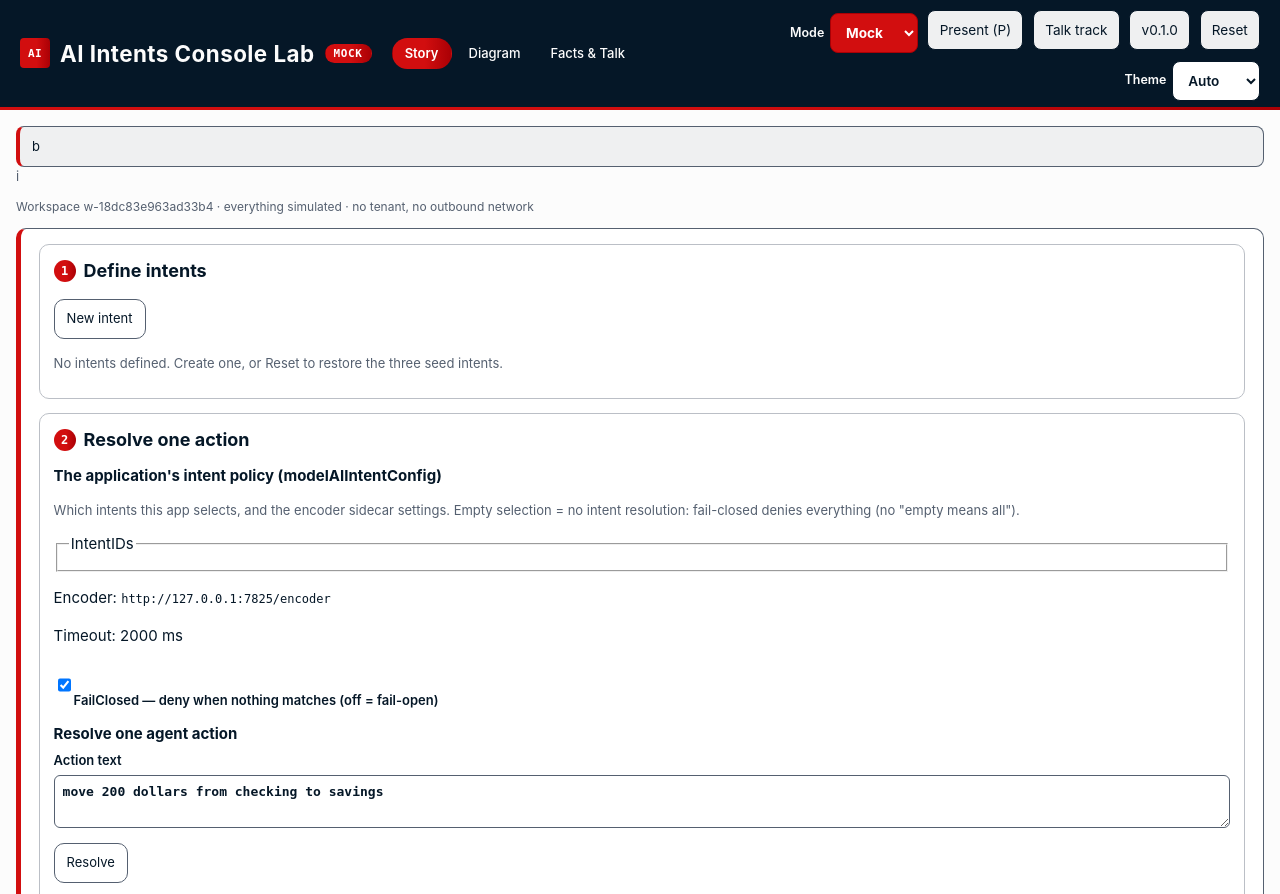
Scenario: real-mode resolve result › real hops render as observed and do not reuse the mock checked chip styling
Expected: the element with test id "banner" showing "b i" is shown, top-left (16, 126), bottom-right (1264, 186)
Click the button with test id "resolve-run": {"x": 91, "y": 863} top-left (54, 843), bottom-right (128, 883)
(page scrolled)
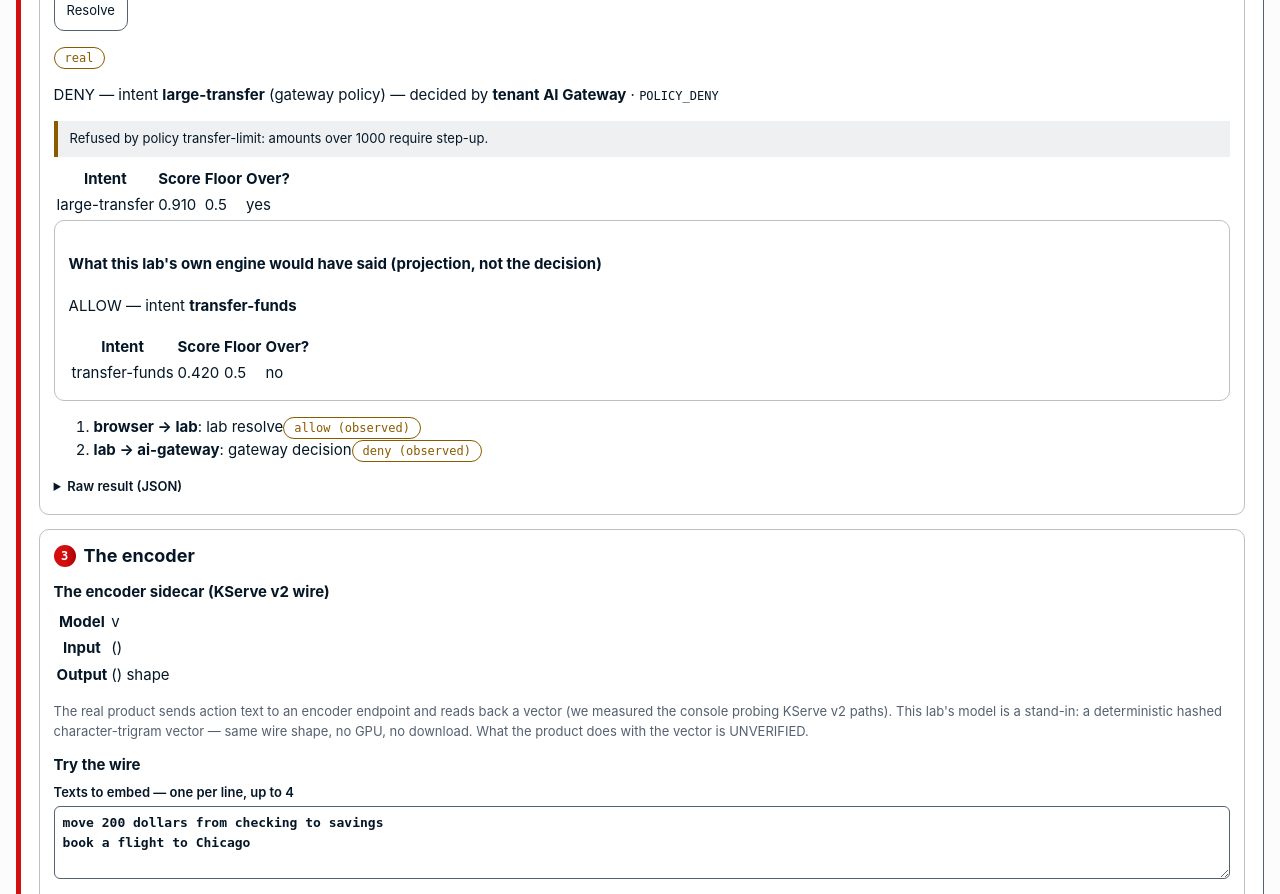
Now the element with test id "resolve-result" is shown, box top-left (54, 46), bottom-right (1230, 496)
Now the text with test id "hop-decision-2" reads "deny (observed)", box top-left (352, 440), bottom-right (482, 462)
